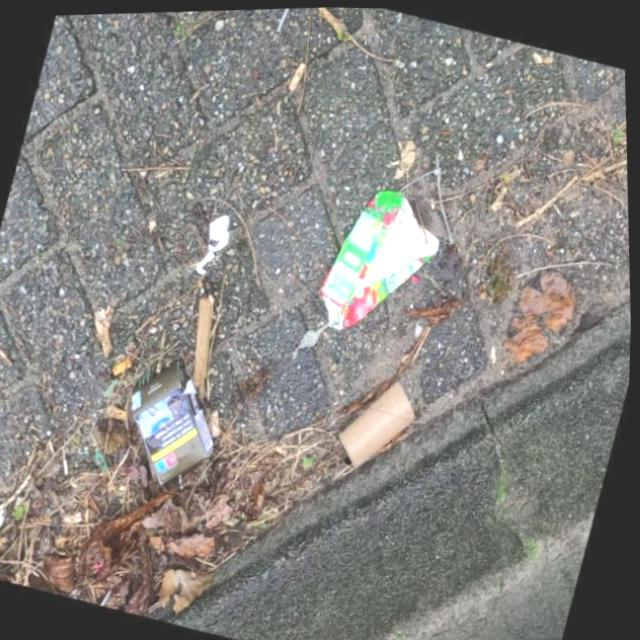Paper: (127, 350, 226, 488), (192, 210, 237, 275)
Plastic: (312, 182, 449, 332)
